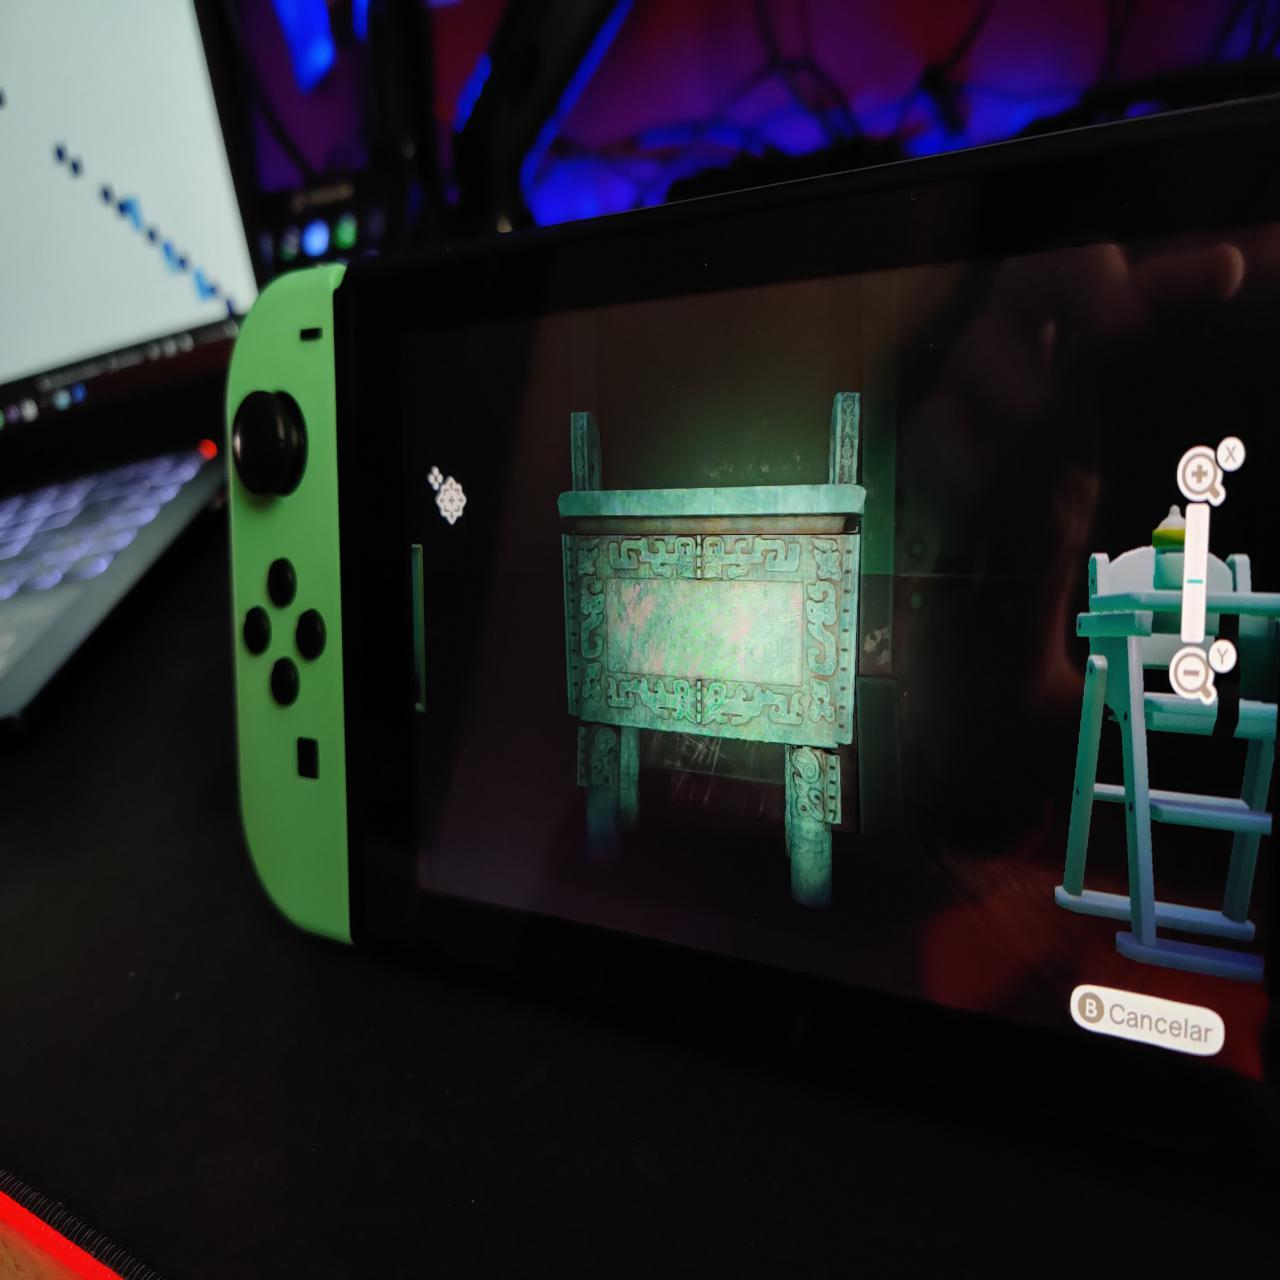HoumuwuDing: (554, 384, 874, 914)
